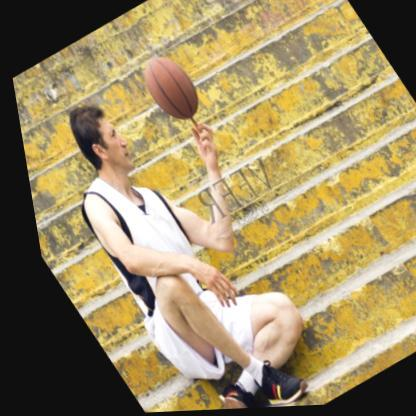basketball: (129, 50, 207, 130)
